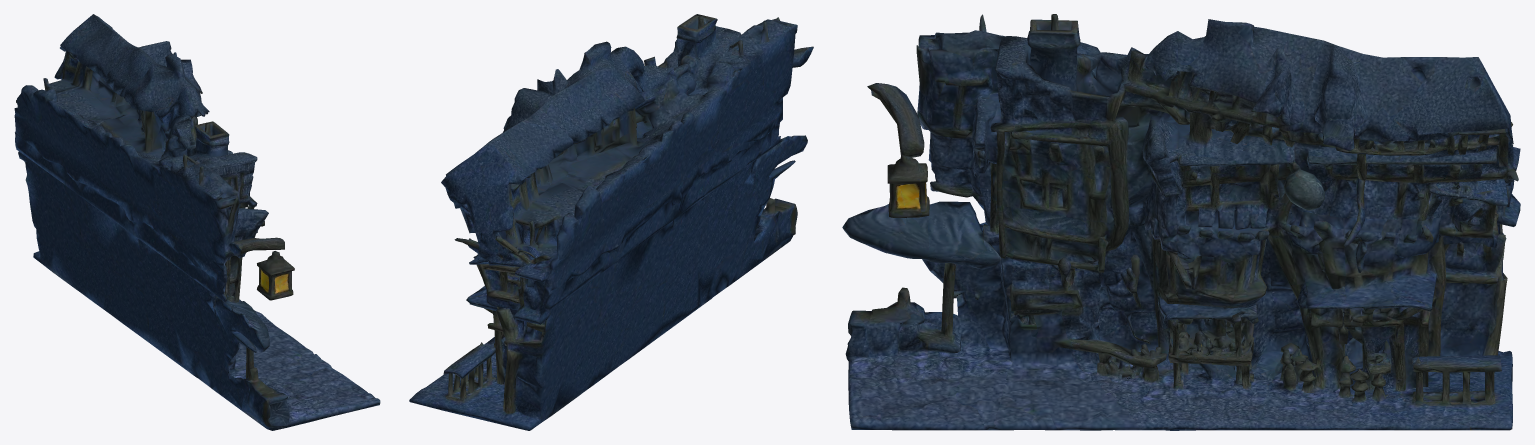
Rendered from drowned-house.glb.
3 views of the same model, side by side, from view 1: azimuth 30°, elevation 25°; view 2: azimuth 150°, elevation 25°; view 3: azimuth 270°, elevation 25° (orthographic). The views are drawn at different scales.
Size of the model in its own units: 0.6132 by 1.11 by 1.87.
Materials: 1 (1 with a texture image).
